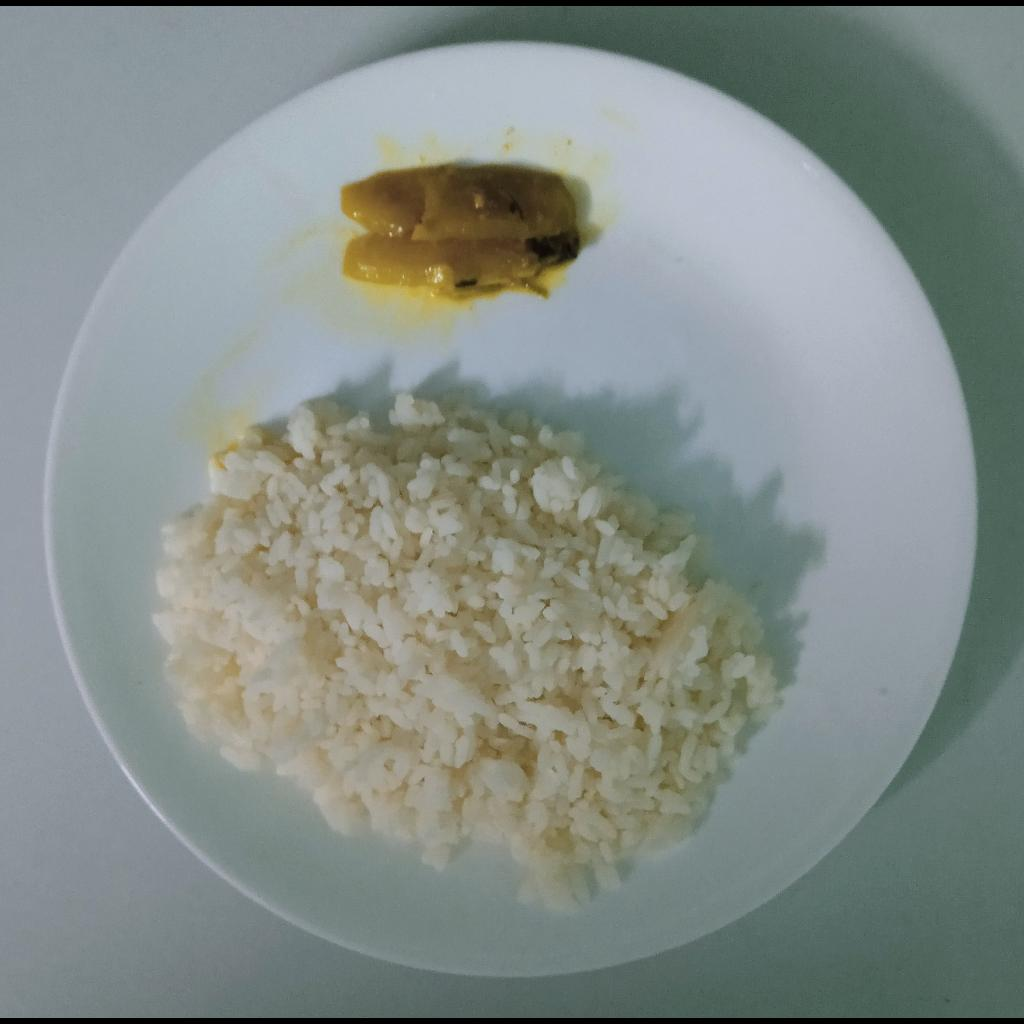potol: (341, 164, 578, 304)
rice: (154, 391, 783, 921)
